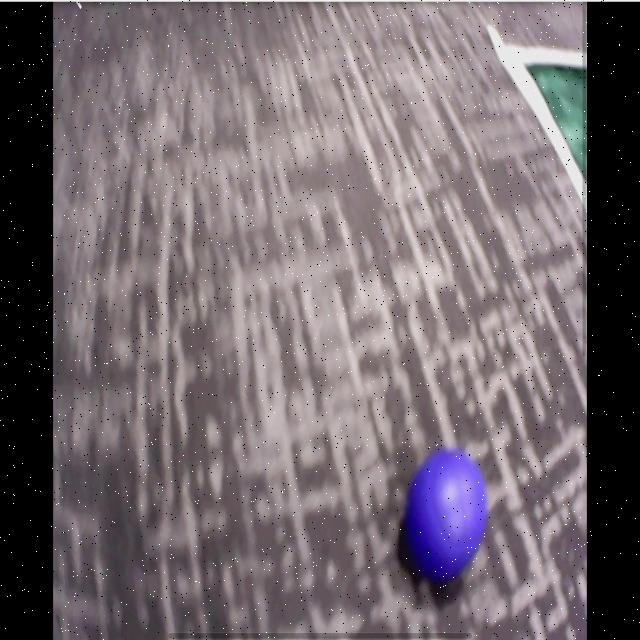ball: (408, 451, 488, 583)
